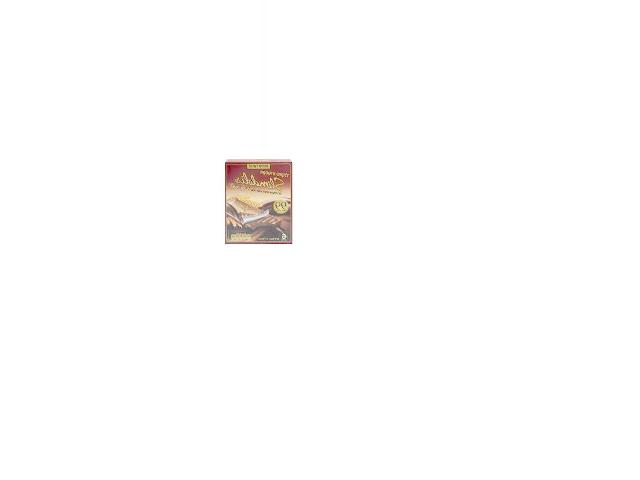chocolate: (225, 158, 292, 244)
